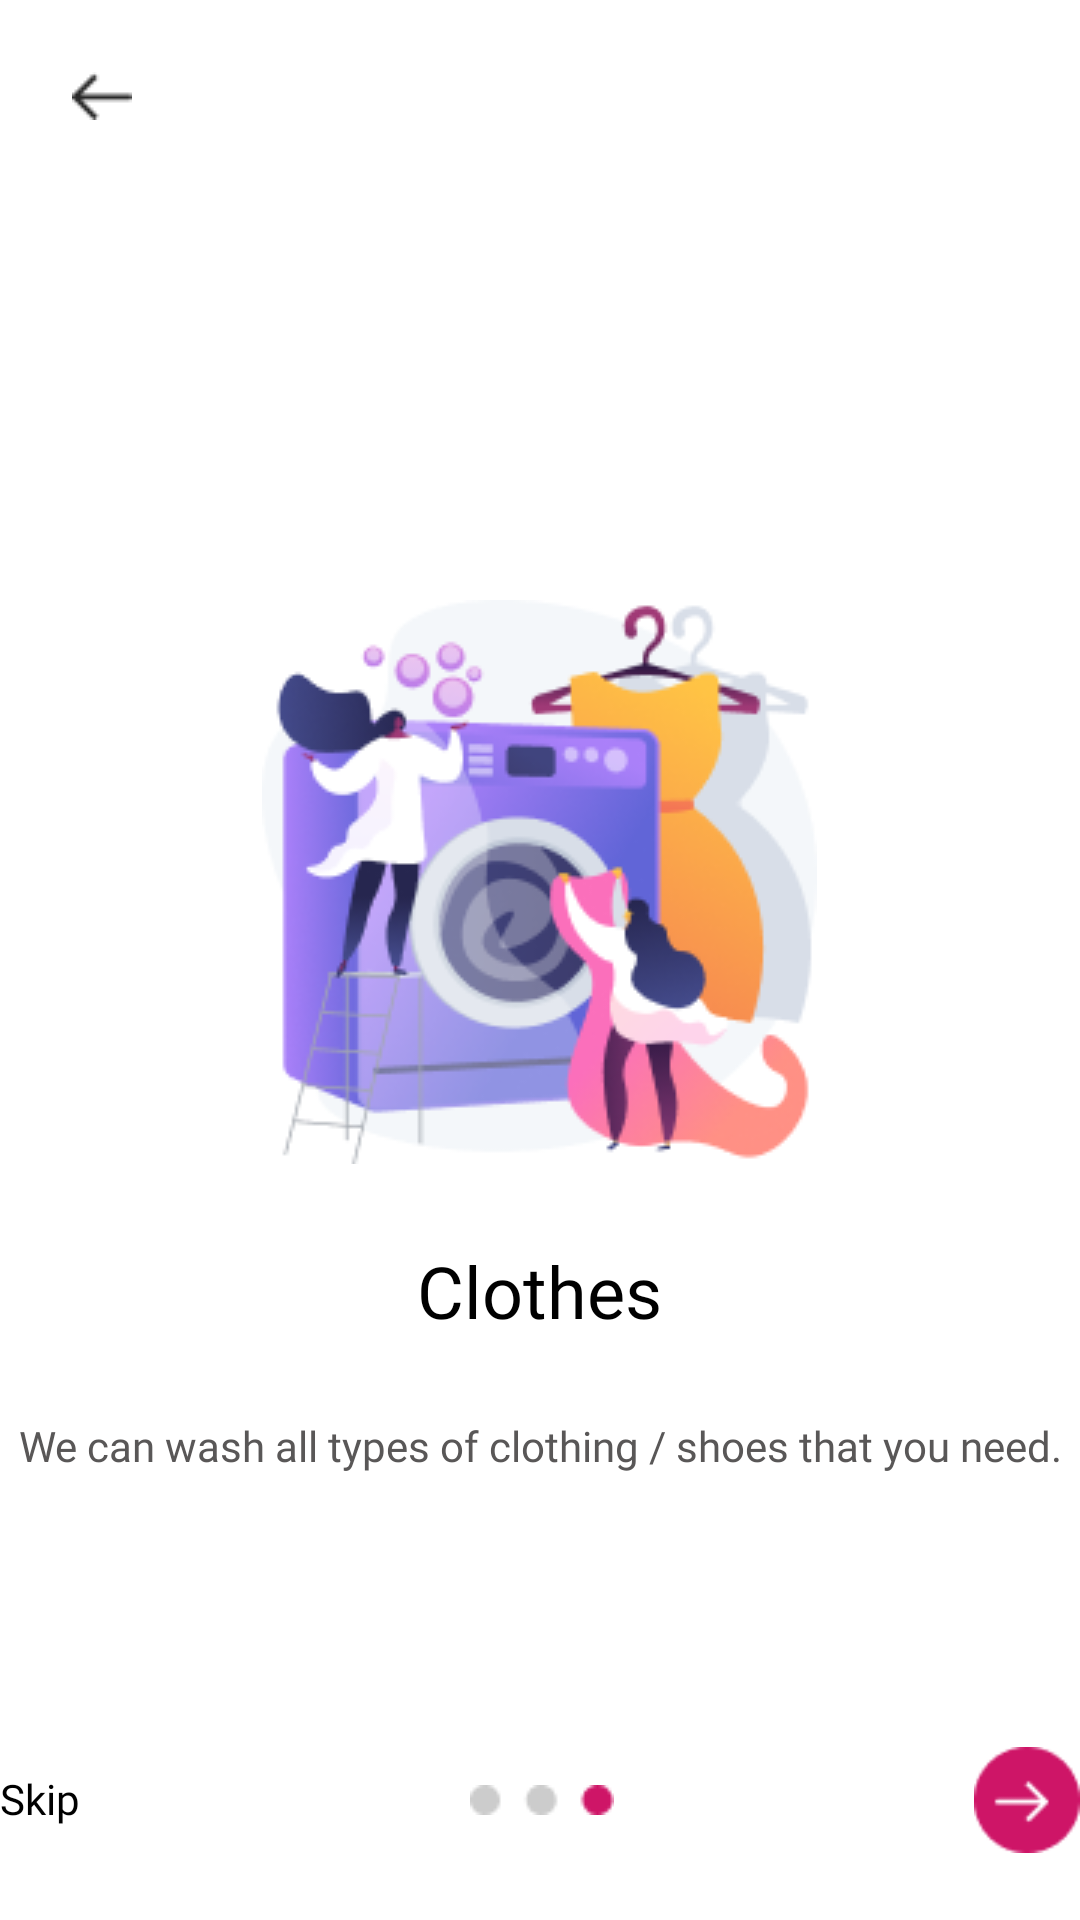

Screen size 1080 x 1920. Icon name, then its center in pixels as point (x, y):
back: point (102, 97)
btnnext: point (1027, 1800)
dot: point (542, 1800)
